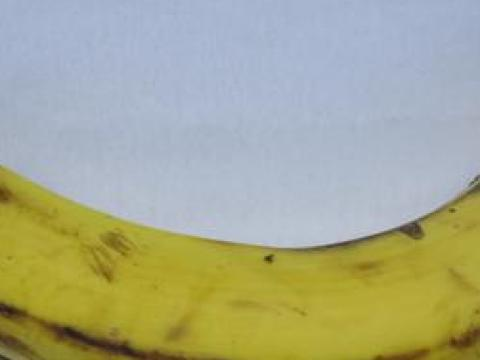ripe: (0, 153, 479, 359)
